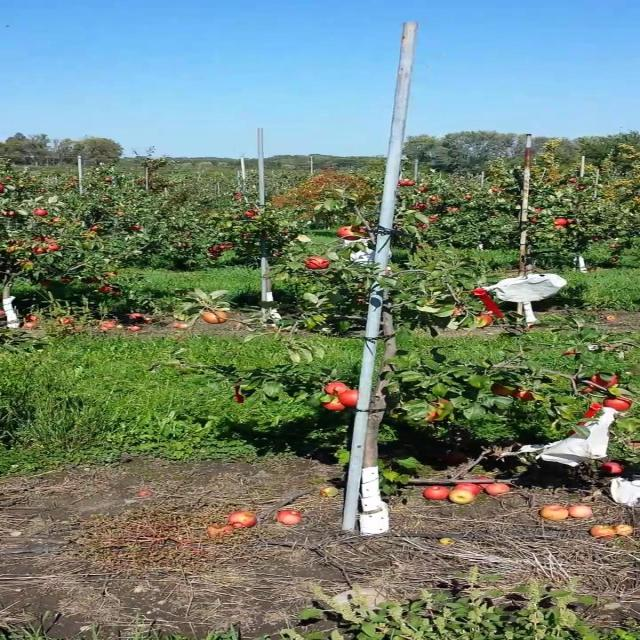apple: (589, 372, 618, 388), (336, 226, 367, 240), (338, 389, 358, 408), (602, 398, 631, 411), (324, 381, 349, 396), (304, 256, 331, 269), (202, 311, 229, 323), (322, 399, 347, 411), (491, 384, 514, 396), (513, 389, 533, 401), (476, 314, 493, 327), (427, 409, 442, 422), (580, 385, 598, 394), (589, 402, 602, 411), (233, 394, 244, 404)
